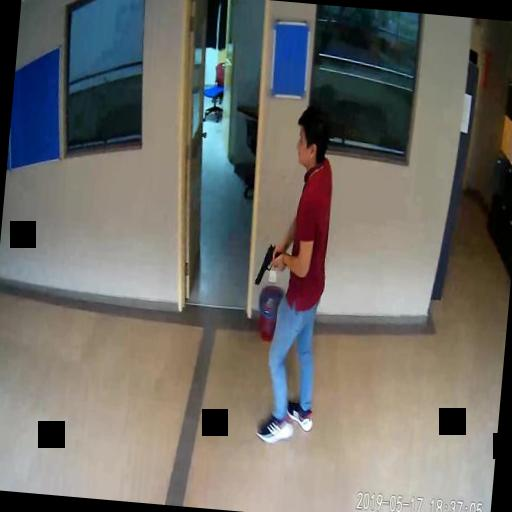Handgun: (254, 241, 282, 285)
